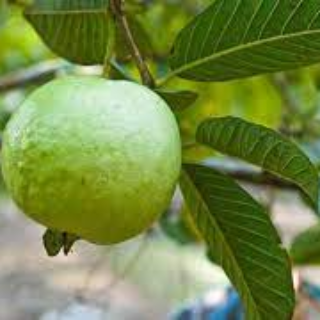oi: (1, 70, 188, 271)
